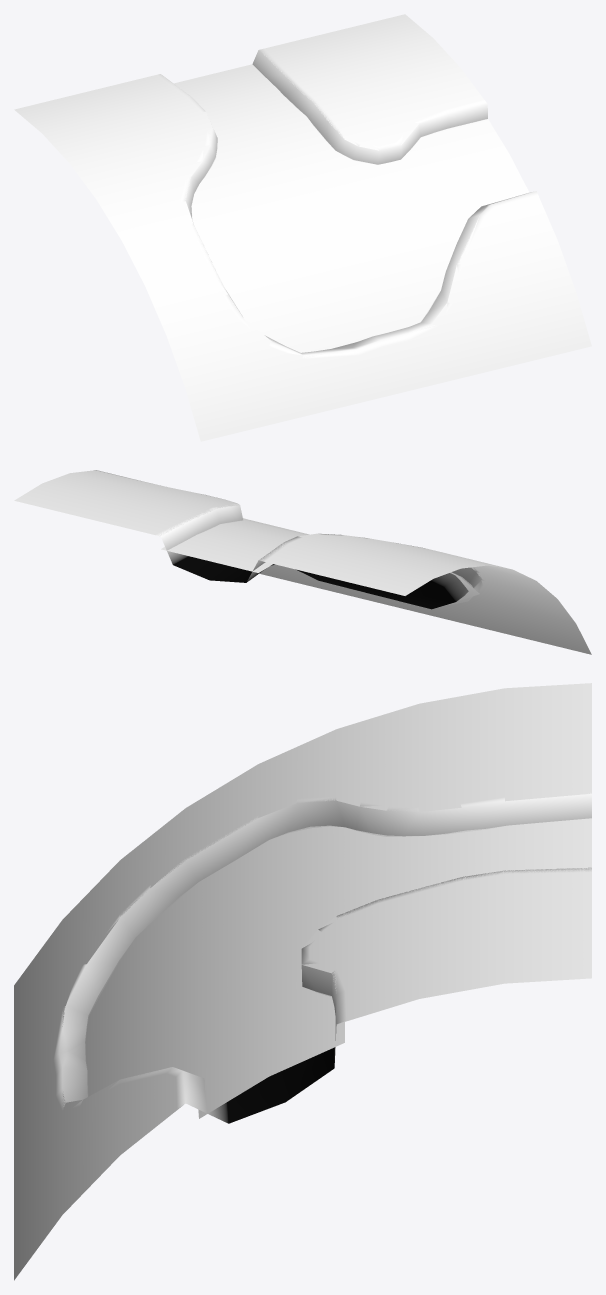
The model's file is grd_Rse_P_1.dae.
3 views of the same model, one above another, from view 1: azimuth 30°, elevation 25°; view 2: azimuth 150°, elevation 25°; view 3: azimuth 270°, elevation 25° (orthographic). The views are drawn at different scales.
Parts seen in each view (by area): view 1: grd_Rse_P_1; view 2: grd_Rse_P_1; view 3: grd_Rse_P_1.
Boxes of the visible parts, box(x1,y1,x2,y2) form: grd_Rse_P_1: box(14, 14, 591, 441); grd_Rse_P_1: box(14, 470, 591, 654); grd_Rse_P_1: box(14, 683, 591, 1280).
Bounding box in the file's own units: 512 × 244 × 423.
4 materials, 1 textured.
